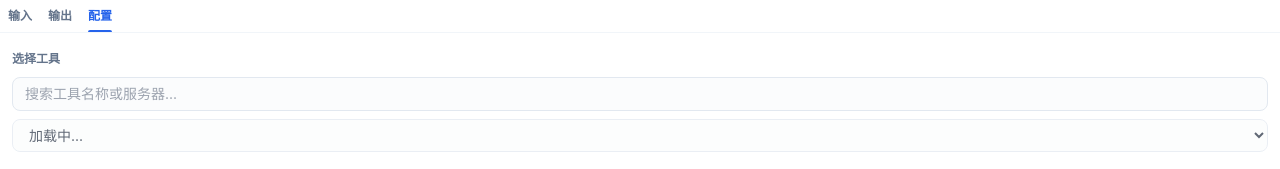
Test: NodeConfigTabs › switches to output tab
The image size is (1280, 169).
Click the tab "输出": (60, 20) [48,8,72,32]
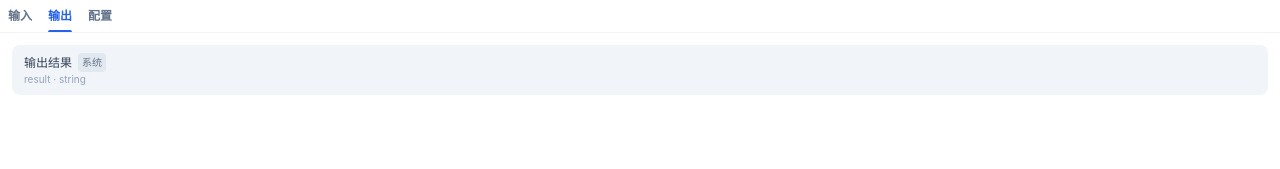
Expected: the text "输出结果" is shown, [24,54,72,70]
